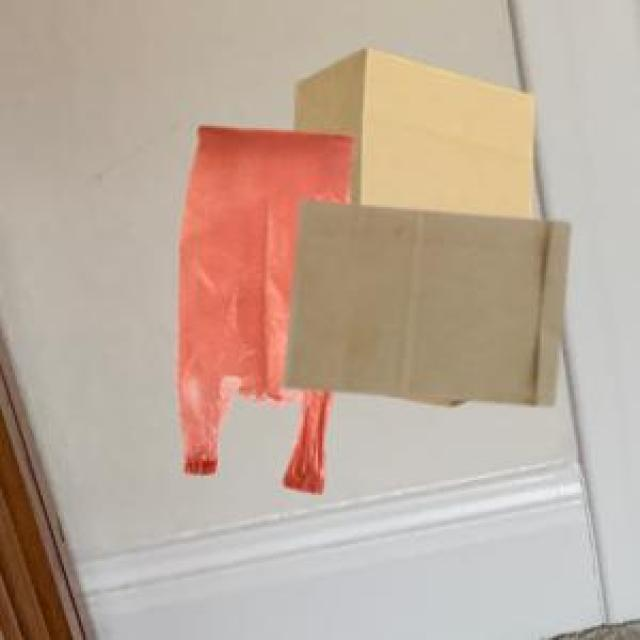paper: (291, 45, 531, 401), (280, 196, 565, 401)
